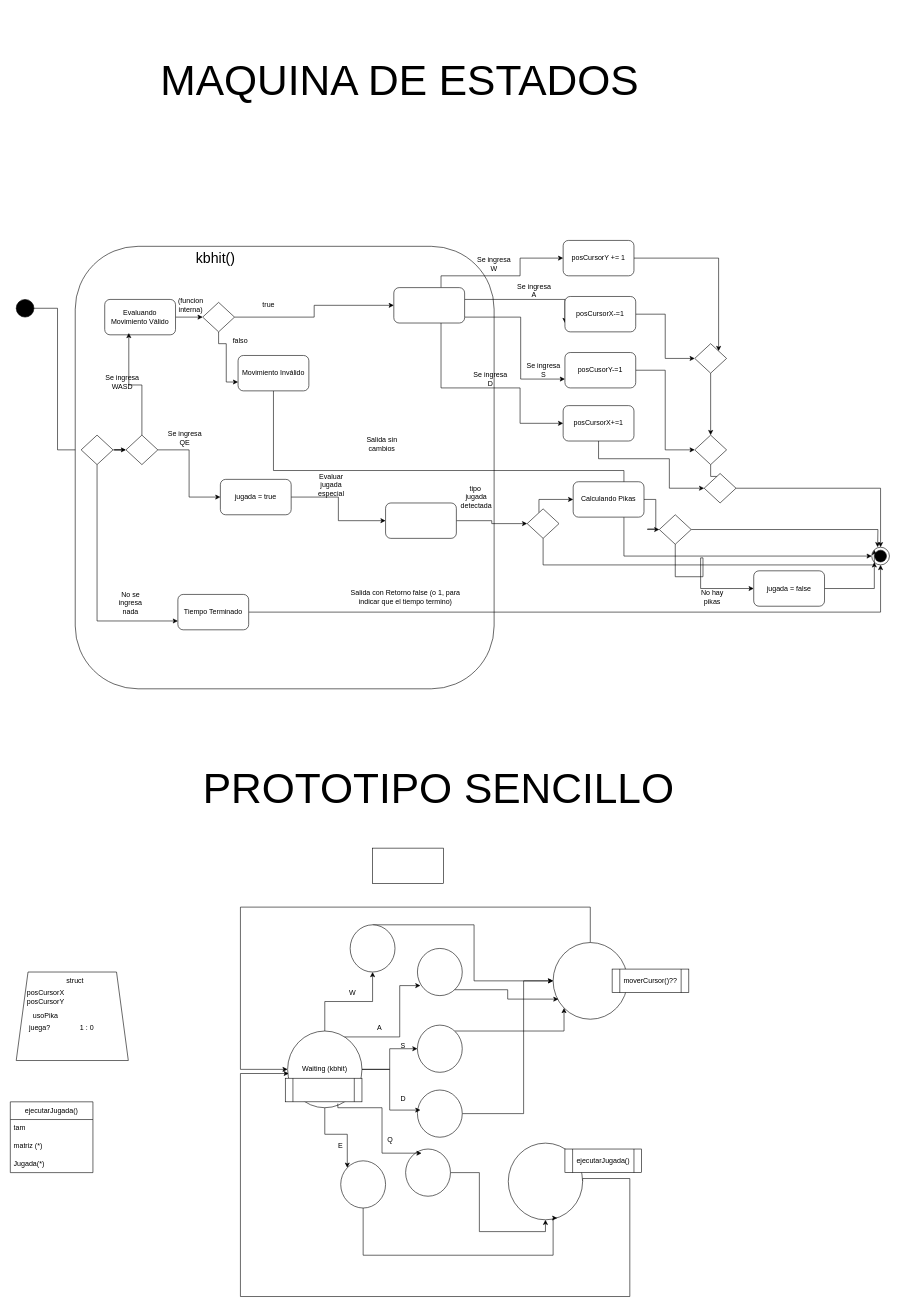
Image size: 900x1312. Some labels were removed from this diagram. Each missing label, with the centre of its shape:
"Evaluando jugada especial" belongs at (420,520).
"Exec" belongs at (545,1181).
"mostrarTablero()" belongs at (323,1090).
"MoveCursor" belongs at (590,980).
"pedirJugada" belongs at (407,866).
"Se mueve el cursor" belongs at (429,305).
